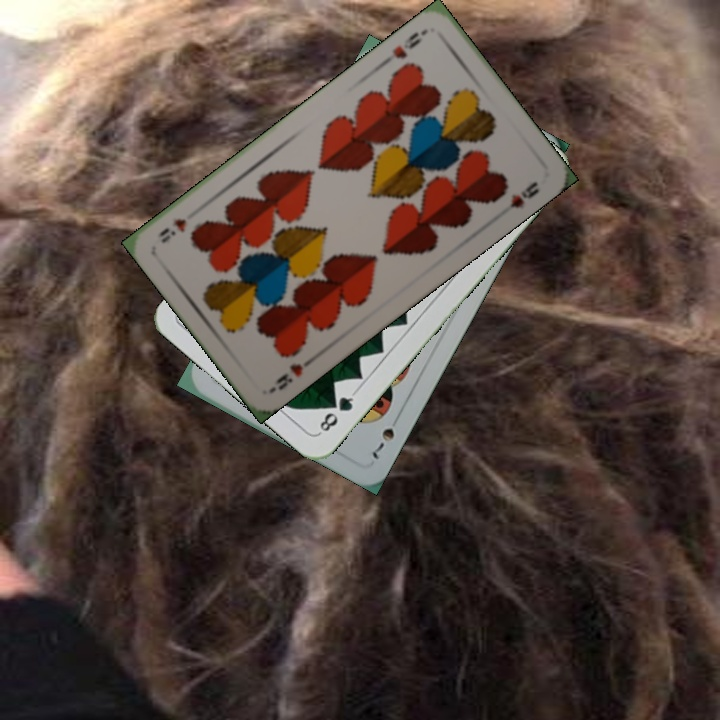G8: (315, 388, 358, 436)
H9: (272, 353, 317, 393), (380, 28, 424, 64)
S7: (367, 423, 397, 462)
